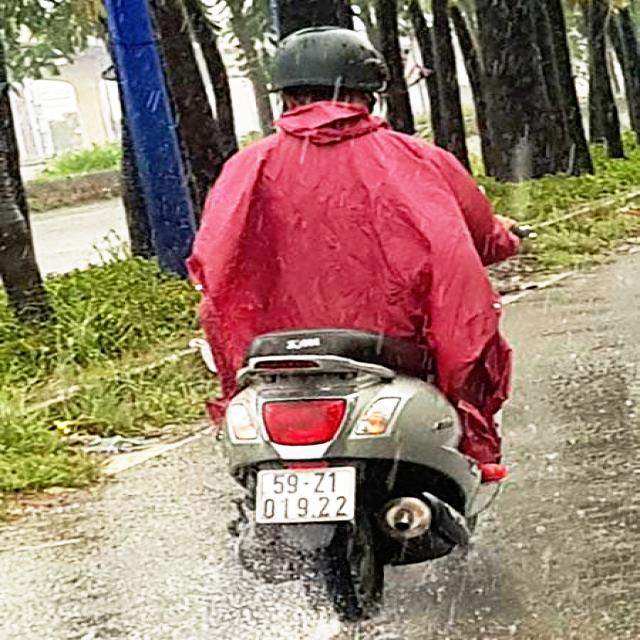license_plate: (256, 468, 356, 525)
